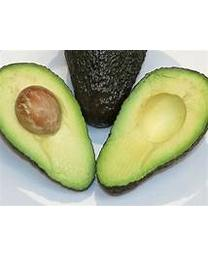avocado: (100, 67, 207, 190), (1, 60, 96, 191), (64, 50, 146, 126)
